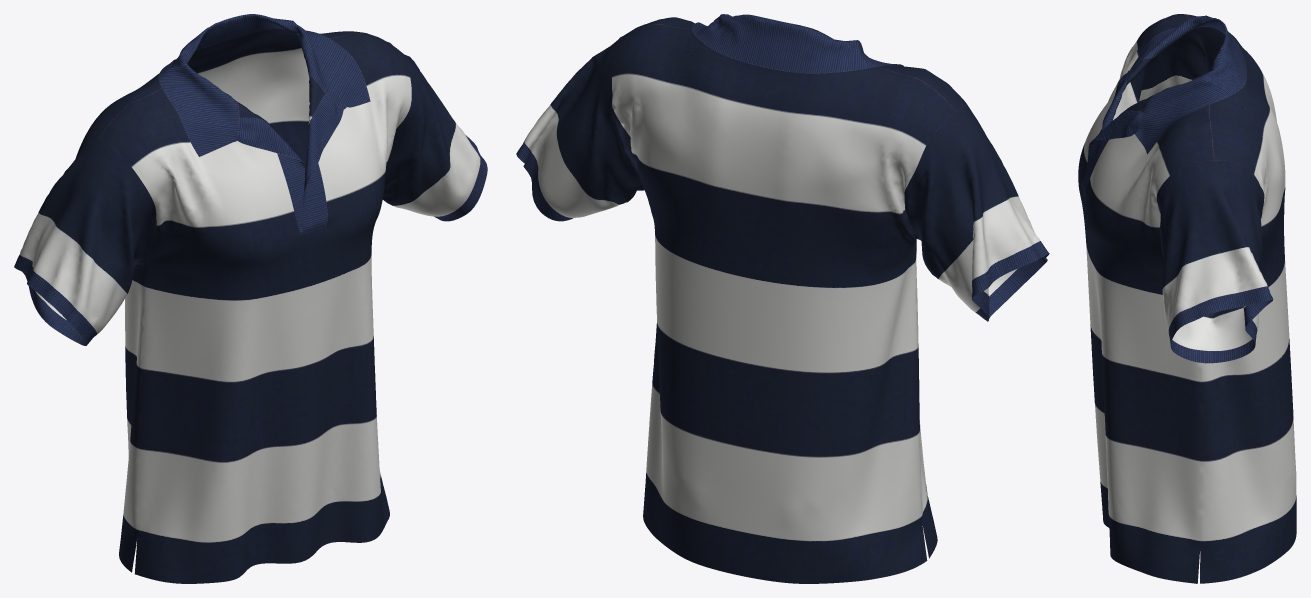
File: Tshirt1.glb
The picture shows the model from 3 angles, left to right: view 1: azimuth 30°, elevation 25°; view 2: azimuth 150°, elevation 25°; view 3: azimuth 270°, elevation 25°; orthographic projection. The views are drawn at different scales.
Visible parts, largest first — view 1: Tshirt; view 2: Tshirt; view 3: Tshirt.
Part boxes in pixels (x1=…): Tshirt: x1=14, y1=14, x2=487, y2=583; Tshirt: x1=516, y1=14, x2=1049, y2=583; Tshirt: x1=1078, y1=14, x2=1296, y2=583.
Size of the model in its own units: 0.6777 by 0.709 by 0.2838.
1 material, 1 textured.
